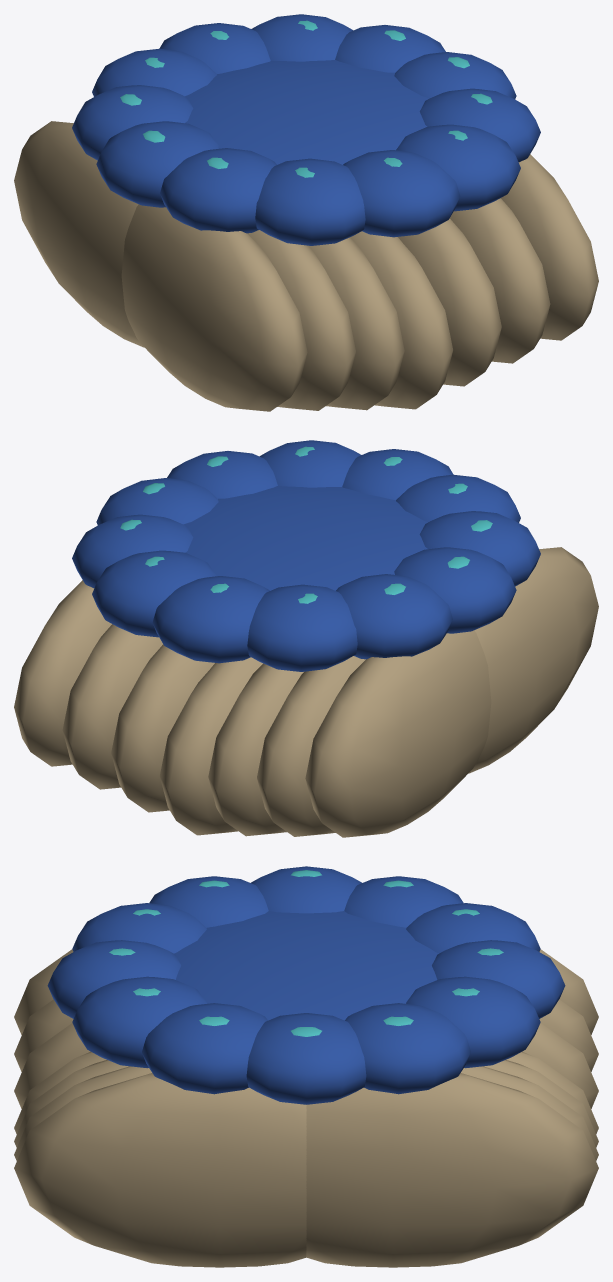
The model's file is giant-clam.glb.
3 renders of one model, top to bottom at view 1: azimuth 30°, elevation 25°; view 2: azimuth 150°, elevation 25°; view 3: azimuth 270°, elevation 25°, orthographic. The views are drawn at different scales.
Visible parts, largest first — view 1: giant-clam; view 2: giant-clam; view 3: giant-clam.
Boxes of the visible parts, box(x1,y1,x2,y2) form: giant-clam: box(14, 14, 598, 411); giant-clam: box(14, 440, 598, 837); giant-clam: box(14, 866, 598, 1267).
Bounding box in the file's own units: 0.454 × 0.28 × 0.54.
